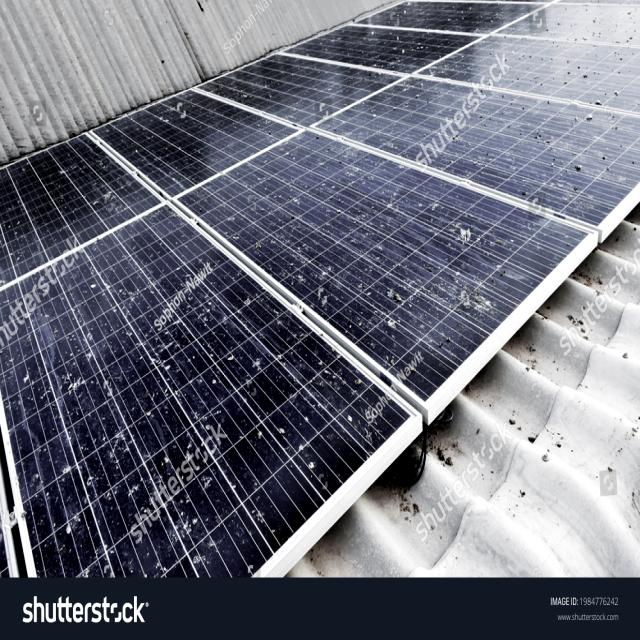bird: (312, 250, 356, 320), (162, 489, 207, 547), (57, 362, 106, 406), (102, 422, 132, 492), (564, 91, 608, 132), (52, 452, 90, 497), (12, 348, 43, 402), (56, 500, 89, 550), (378, 288, 408, 343), (458, 278, 496, 320), (302, 434, 326, 490), (250, 421, 290, 444), (448, 216, 476, 246), (336, 398, 361, 430), (222, 338, 244, 368)
